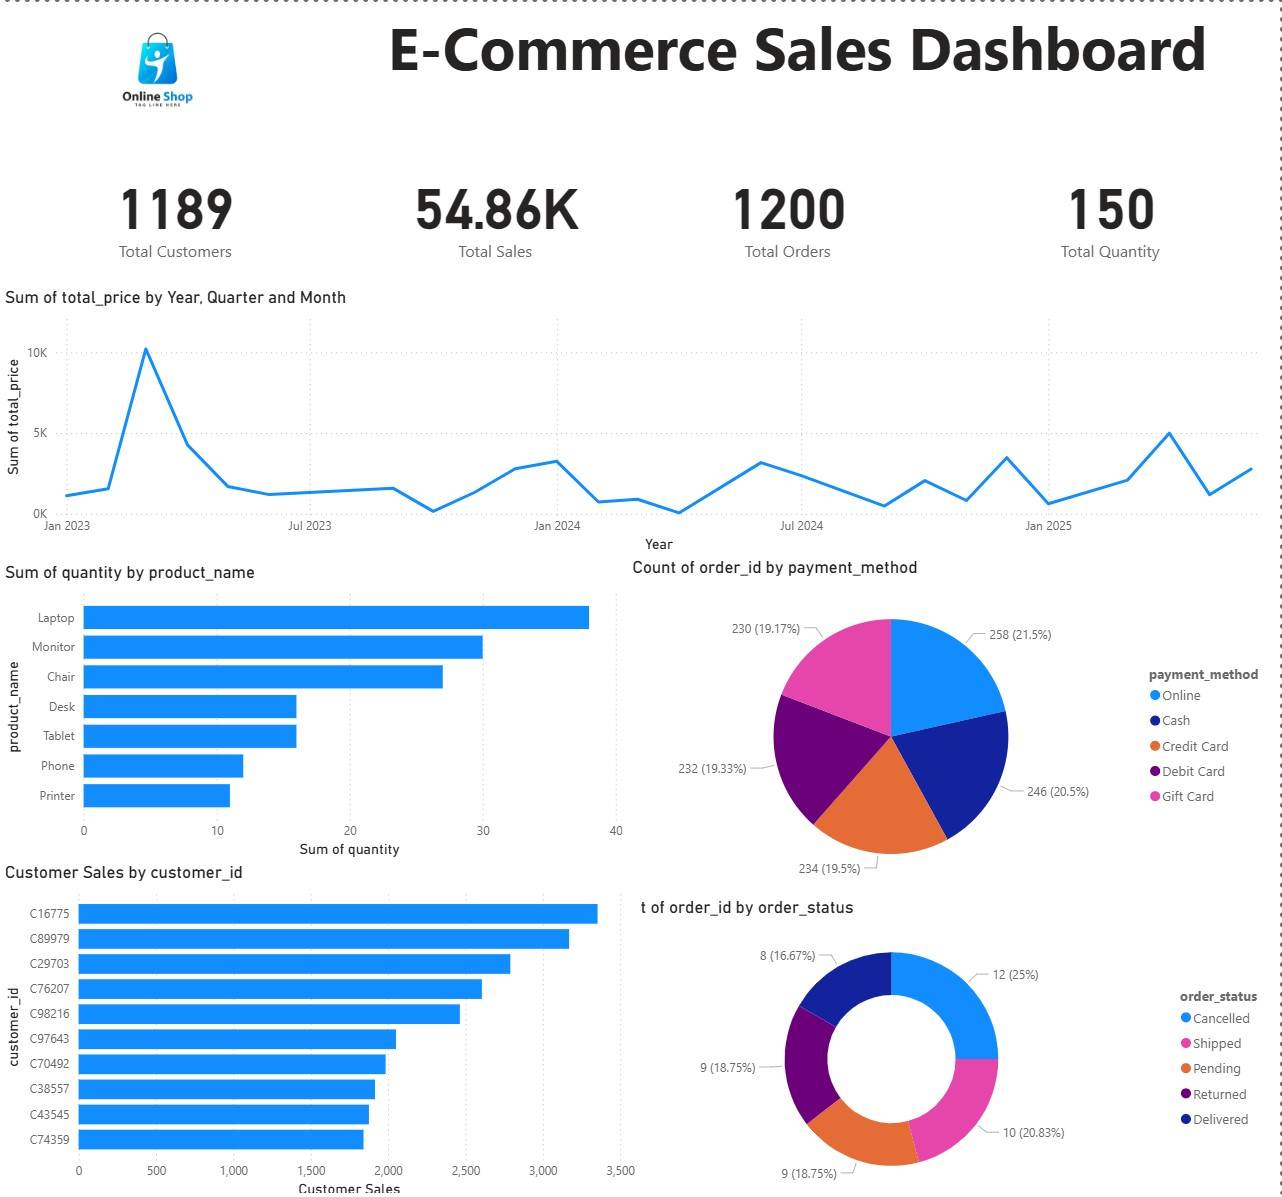

Layout of this report page (visuals, bound fields, positions):
{"tool":"powerbi","page":{"name":"Page 1","canvas":[1280,1200],"ordinal":0},"visuals":[{"type":"card","fields":{"Values":["Customers.Total Customers"]},"box":[0,135,350,150],"z":0},{"type":"card","fields":{"Values":["Customers.Total Orders"]},"box":[640,135,295,150],"z":1000},{"type":"card","fields":{"Values":["Customers.Total Quantity"]},"box":[940,135,340,150],"z":2000},{"type":"card","fields":{"Values":["Customers.Total Sales"]},"box":[350,135,290,150],"z":3000},{"type":"lineChart","fields":{"Y":["Sum(OrderDetails.total_price)"],"Category":["Orders.order_date.Variation.Date Hierarchy.Year","Orders.order_date.Variation.Date Hierarchy.Quarter","Orders.order_date.Variation.Date Hierarchy.Month"]},"box":[0,285,1280,270],"z":4000},{"type":"barChart","fields":{"Category":["Products.product_name"],"Y":["Sum(OrderDetails.quantity)"]},"box":[0,560,627.5,300],"z":5000},{"type":"pieChart","fields":{"Category":["Payments.payment_method"],"Y":["CountNonNull(Orders.order_id)"]},"box":[627.5,555,652.5,340],"z":6000},{"type":"donutChart","fields":{"Category":["Orders.order_status"],"Y":["CountNonNull(OrderDetails.order_id)"]},"box":[597.5,895,682.5,305],"z":7000},{"type":"barChart","fields":{"Category":["Customers.customer_id"],"Y":["Customers.Customer Sales"]},"box":[0,860,640,340],"z":7001},{"type":"textbox","box":[315,0,965,135],"z":7002},{"type":"image","box":[0,0,315,135],"z":7003}]}

Visuals, with their boxes in screenshot pixels (x1, y1, x2, y2), scaled from the page's 1280x1200 canvas onto the 1282x1197 screenshot:
card - Customers.Total Customers: [left=0, top=135, right=351, bottom=284]
card - Customers.Total Orders: [left=641, top=135, right=936, bottom=284]
card - Customers.Total Quantity: [left=941, top=135, right=1281, bottom=284]
card - Customers.Total Sales: [left=351, top=135, right=641, bottom=284]
lineChart - Sum(OrderDetails.total_price) x Orders.order_date.Variation.Date Hierarchy.Year: [left=0, top=284, right=1281, bottom=554]
barChart - Products.product_name x Sum(OrderDetails.quantity): [left=0, top=559, right=628, bottom=858]
pieChart - Payments.payment_method x CountNonNull(Orders.order_id): [left=628, top=554, right=1281, bottom=893]
donutChart - Orders.order_status x CountNonNull(OrderDetails.order_id): [left=598, top=893, right=1281, bottom=1196]
barChart - Customers.customer_id x Customers.Customer Sales: [left=0, top=858, right=641, bottom=1196]
textbox: [left=315, top=0, right=1281, bottom=135]
image: [left=0, top=0, right=315, bottom=135]
